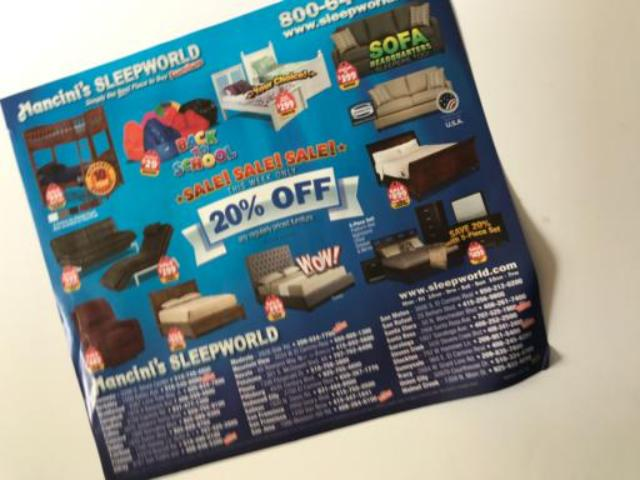cardboard paper: (1, 0, 546, 475)
